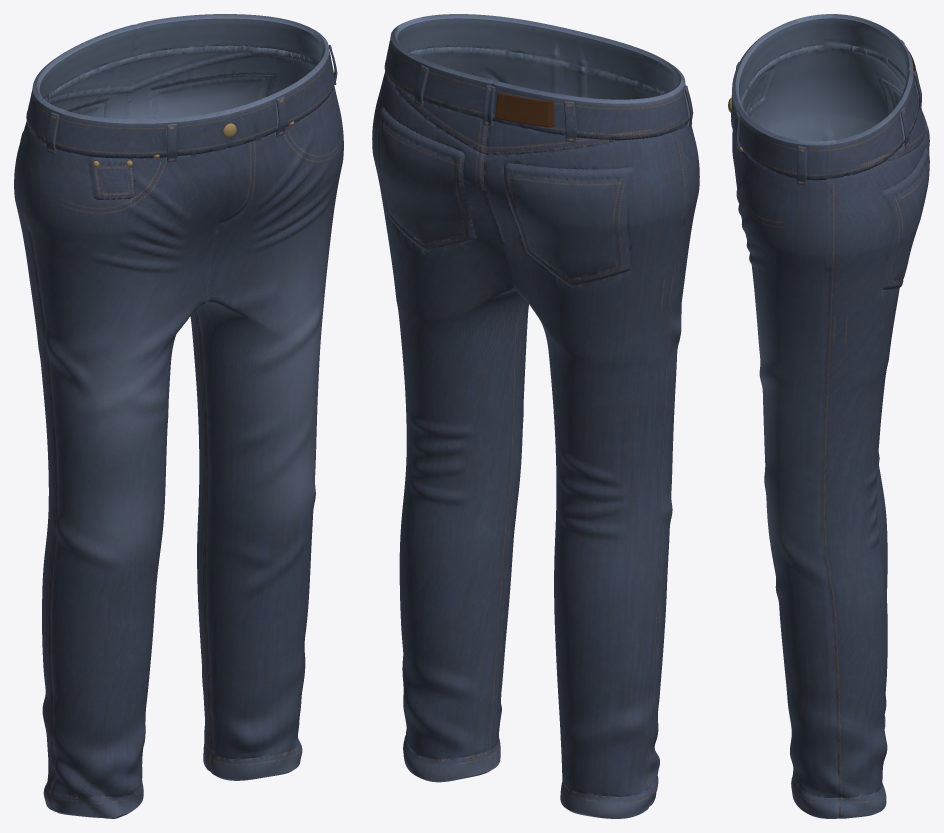
Rendered from 21_vaquero_skinny_pbr.glb.
3 renders of one model, left to right at view 1: azimuth 30°, elevation 25°; view 2: azimuth 150°, elevation 25°; view 3: azimuth 270°, elevation 25°, orthographic. The views are drawn at different scales.
Parts seen in each view (by area): view 1: Vaquero PBR; view 2: Vaquero PBR, Etiqueta de piel; view 3: Vaquero PBR.
Part boxes in pixels (bbox=[...]): Vaquero PBR: bbox=[14, 14, 343, 818]; Vaquero PBR: bbox=[372, 14, 699, 818]; Etiqueta de piel: bbox=[495, 93, 554, 127]; Vaquero PBR: bbox=[731, 14, 929, 818].
Size of the model in its own units: 0.4075 by 0.9342 by 0.2438.
Materials: 3 (1 with a texture image).
